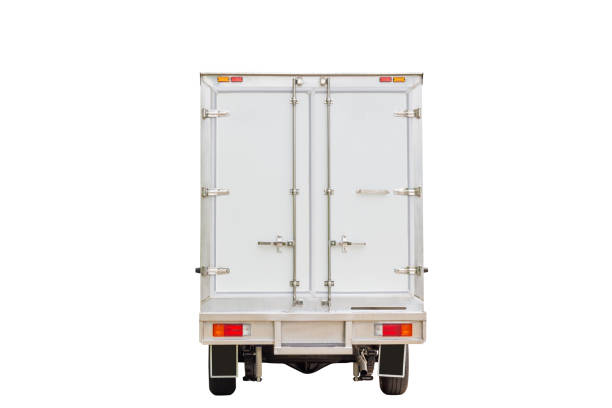Semi: (198, 71, 427, 395)
